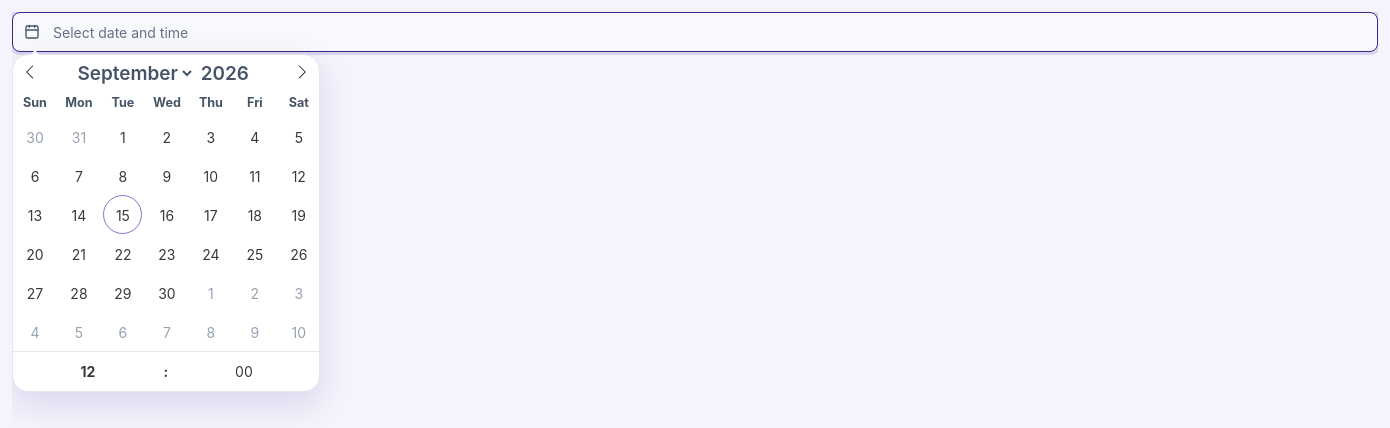
Test: DateTimePicker › closes the calendar when focus leaves the field
The width and height of the screenshot is (1390, 428).
Focus the field with id "when" at (695, 32), box [12, 12, 1378, 52]
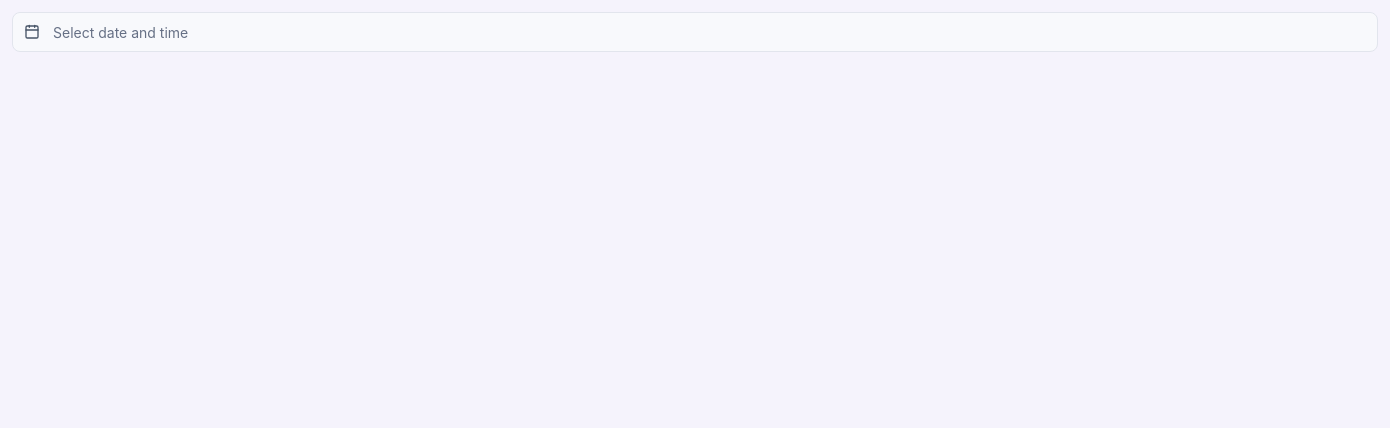
Result: the element with class "open" is gone
